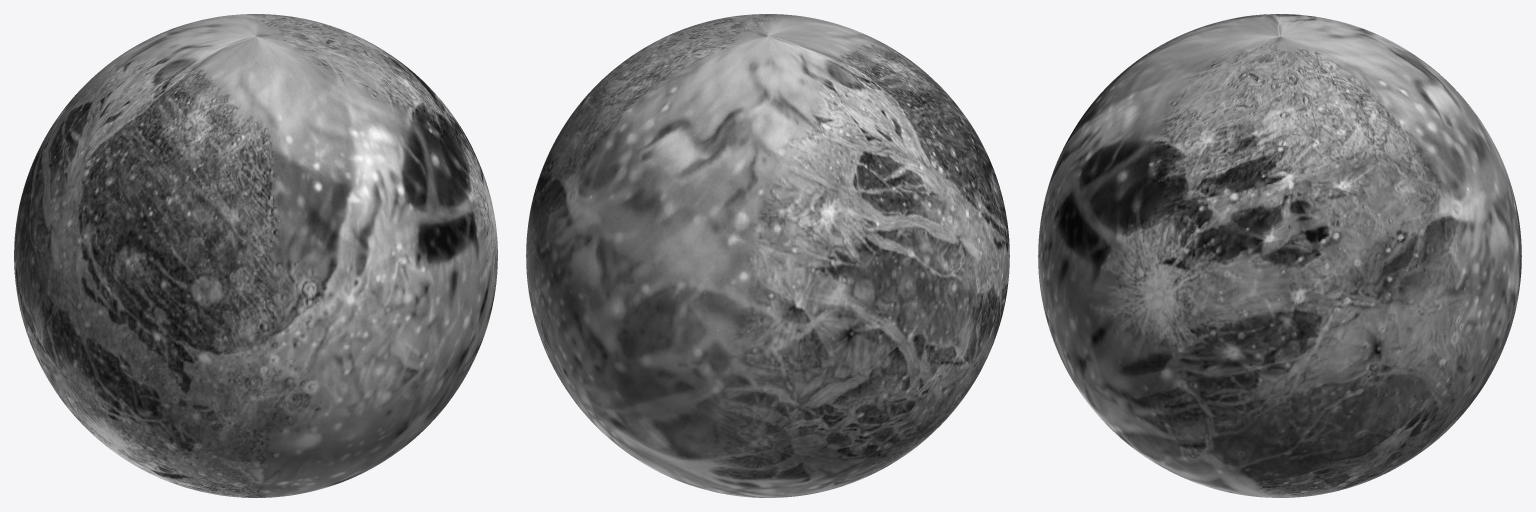
File: ganymede.glb
3 views of the same model, side by side, from view 1: azimuth 30°, elevation 25°; view 2: azimuth 150°, elevation 25°; view 3: azimuth 270°, elevation 25° (orthographic).
Visible parts, largest first — view 1: Ganymede_Asset; view 2: Ganymede_Asset; view 3: Ganymede_Asset.
Part boxes in pixels (x1,y1,x2,y2): Ganymede_Asset: (14, 14, 497, 497); Ganymede_Asset: (526, 14, 1009, 497); Ganymede_Asset: (1038, 14, 1521, 497).
Bounding box in the file's own units: 0.7989 × 0.8 × 0.7988.
1 material, 1 textured.
